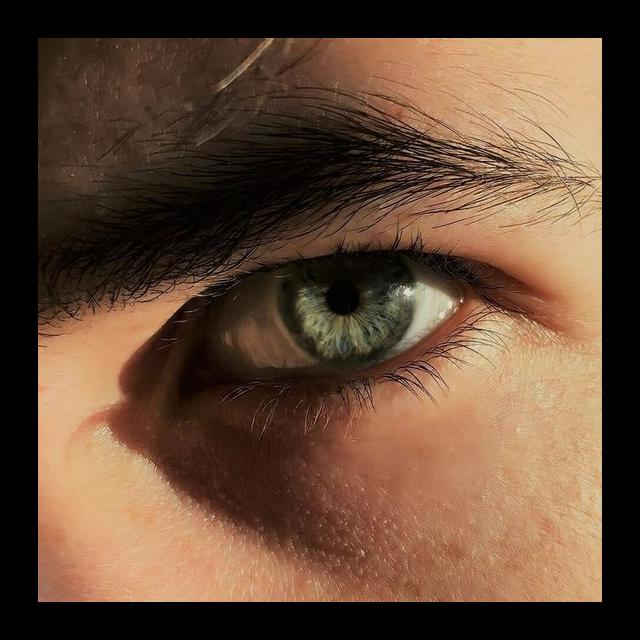eye: (203, 251, 466, 381)
iris: (279, 255, 418, 373)
